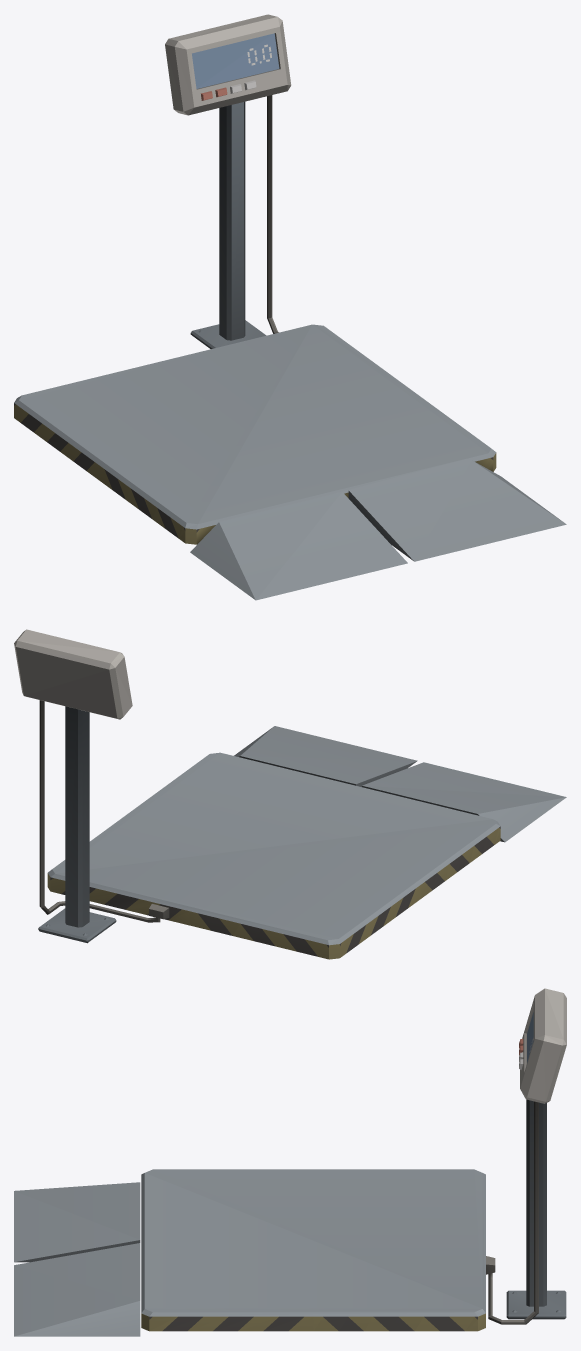
File: scale.glb
3 views of the same model, one above another, from view 1: azimuth 30°, elevation 25°; view 2: azimuth 150°, elevation 25°; view 3: azimuth 270°, elevation 25° (orthographic). The views are drawn at different scales.
Visible parts, largest first — view 1: scale; view 2: scale; view 3: scale.
Part boxes in pixels (<box>): scale: <box>14,14,566,600</box>; scale: <box>14,629,566,959</box>; scale: <box>14,988,566,1336</box>.
Bounding box in the file's own units: 1.5 × 1.42 × 2.41.
